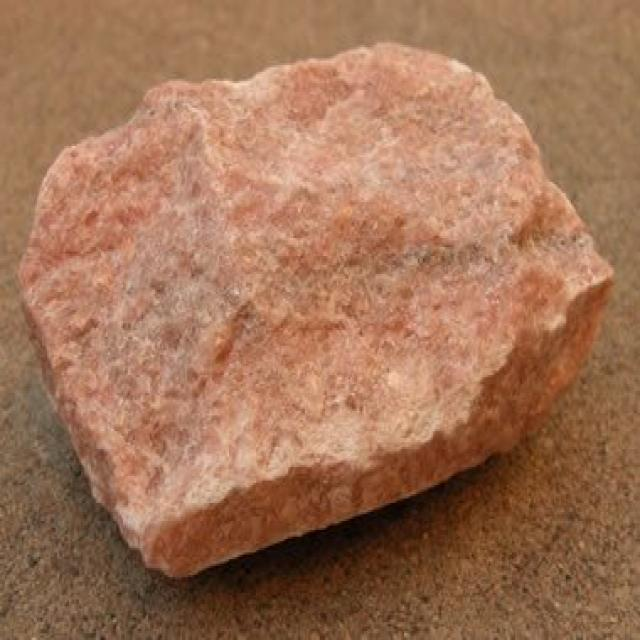Metamorphic: (28, 47, 620, 559)
